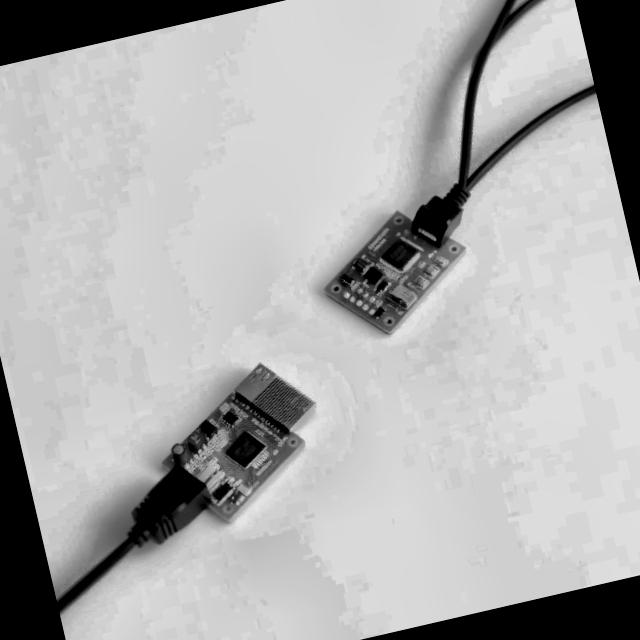Cable: (397, 0, 621, 240), (32, 453, 232, 632)
PCB: (138, 344, 336, 538), (306, 189, 483, 349)
